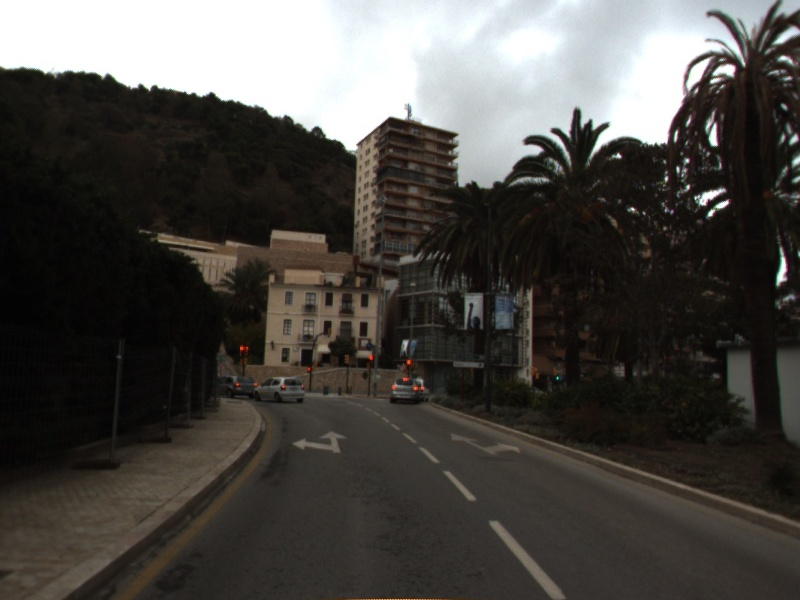STRAIGHT_LEFT: (290, 429, 349, 455)
STRAIGHT_RIGHT: (449, 431, 522, 457)
